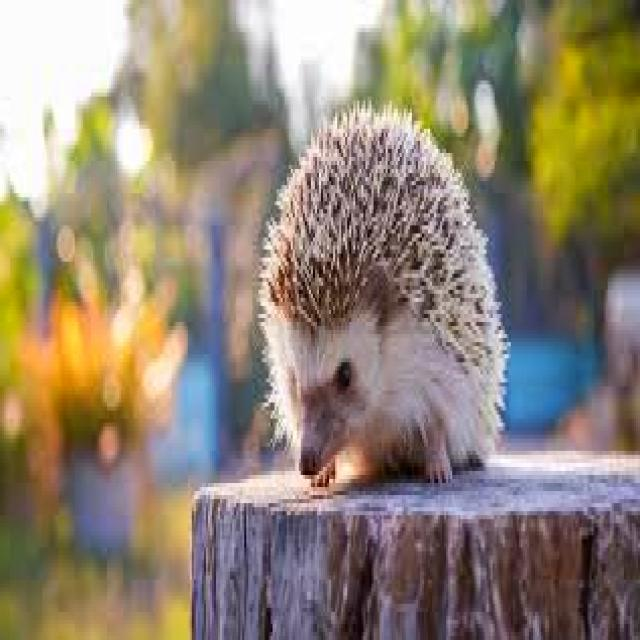hedgehog: (260, 101, 507, 483)
